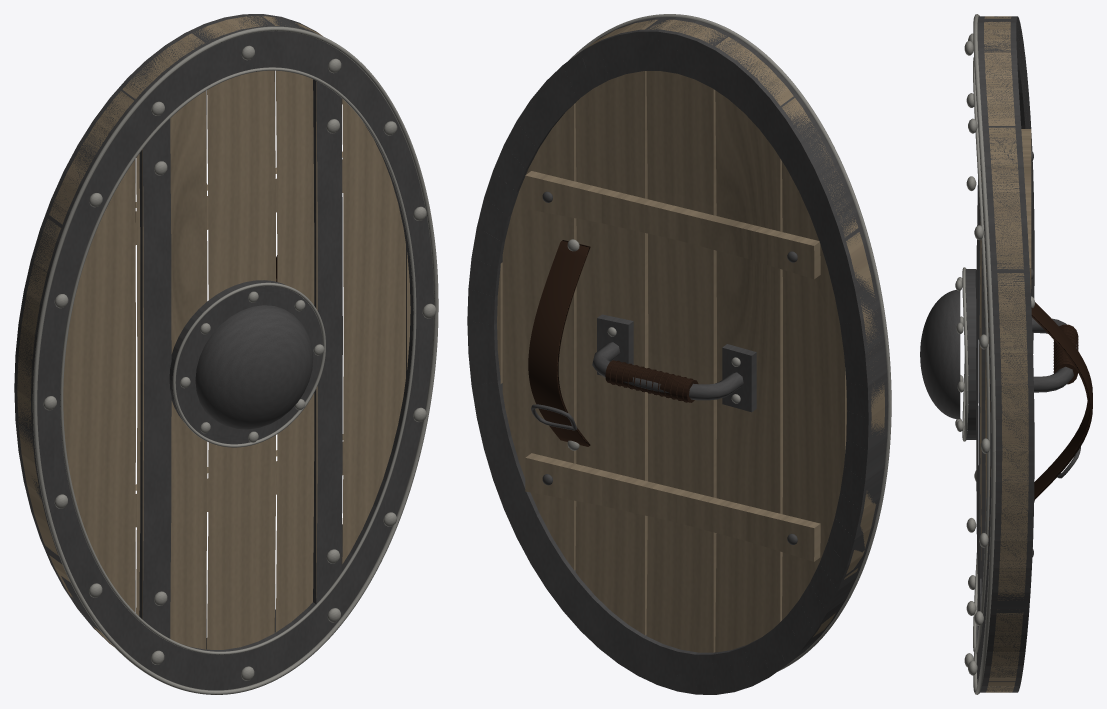
The model's file is duskoak_shield.glb.
3 views of the same model, side by side, from view 1: azimuth 30°, elevation 25°; view 2: azimuth 150°, elevation 25°; view 3: azimuth 270°, elevation 25° (orthographic).
Parts seen in each view (by area): view 1: grey-ash, forged-shield-metal, worn-polished-edges; view 2: grey-ash, forged-shield-metal, rear-oiled-leather, worn-polished-edges; view 3: forged-shield-metal, grey-ash, worn-polished-edges, rear-oiled-leather.
Part boxes in pixels (box(x1,y1,x2,y2)): grey-ash: box(17, 16, 410, 649); forged-shield-metal: box(14, 14, 433, 690); worn-polished-edges: box(32, 26, 438, 694); grey-ash: box(497, 19, 884, 652); forged-shield-metal: box(467, 17, 888, 694); rear-oiled-leather: box(528, 240, 698, 446); worn-polished-edges: box(567, 14, 891, 671); forged-shield-metal: box(920, 16, 1080, 692); grey-ash: box(979, 16, 1031, 692); worn-polished-edges: box(955, 14, 1034, 694); rear-oiled-leather: box(1031, 302, 1092, 499).
Bounding box in the file's own units: 0.5555 × 0.8655 × 0.2078.
Materials: 4 (4 with a texture image).
